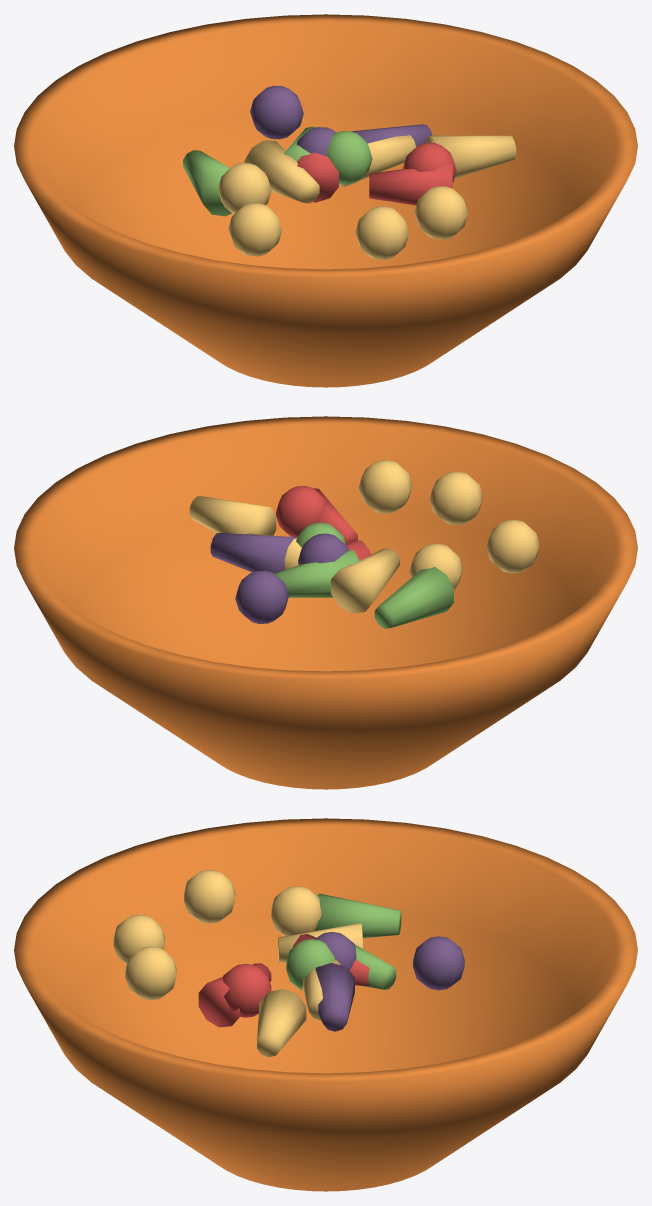
The model's file is candy_bowl.glb.
3 views of the same model, one above another, from view 1: azimuth 30°, elevation 25°; view 2: azimuth 150°, elevation 25°; view 3: azimuth 270°, elevation 25° (orthographic).
Visible parts, largest first — view 1: LH_candy_bowl; view 2: LH_candy_bowl; view 3: LH_candy_bowl.
Part boxes in pixels (box(x1,y1,x2,y2)): LH_candy_bowl: box(14, 14, 637, 387); LH_candy_bowl: box(14, 416, 637, 789); LH_candy_bowl: box(14, 818, 637, 1191).
Size of the model in its own units: 0.3 by 0.108 by 0.3.
